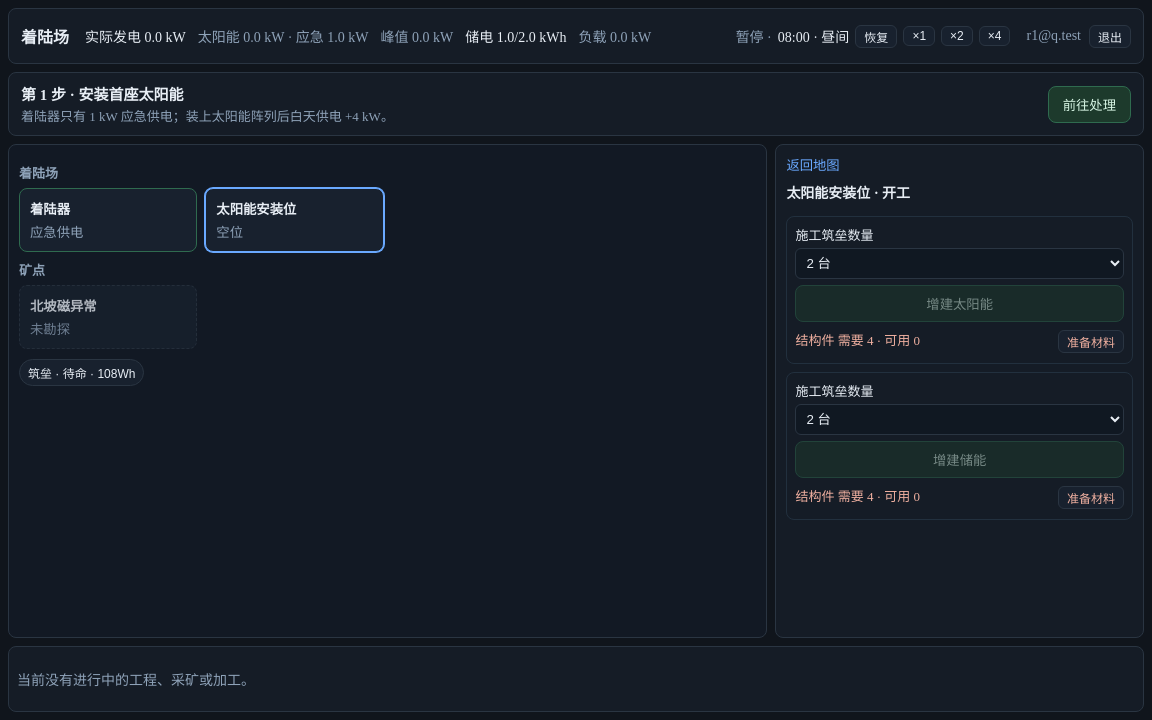
Test: LandingShell › opens the material source only for the chosen project card
Click the 1st button "准备材料": coordinates (1091, 342) [1058,330,1124,353]
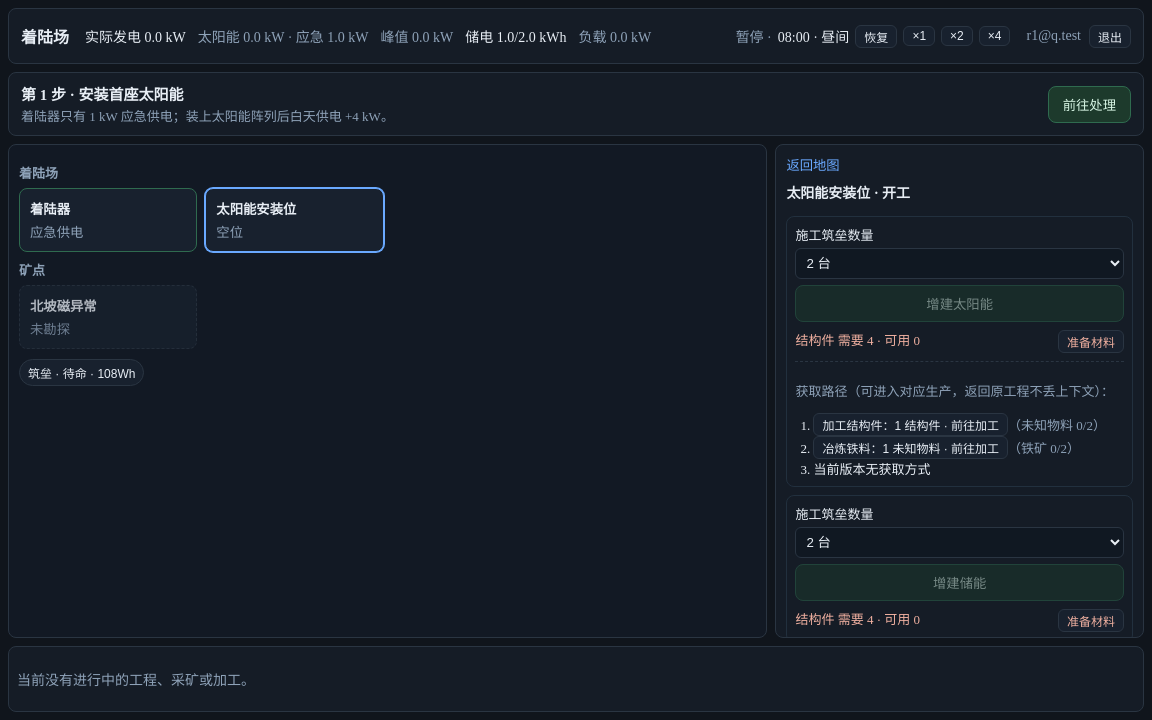
Now the text "获取路径（可进入对应生产，返回原工程不丢上下文）：" is shown once, box [795,381,1124,400]
